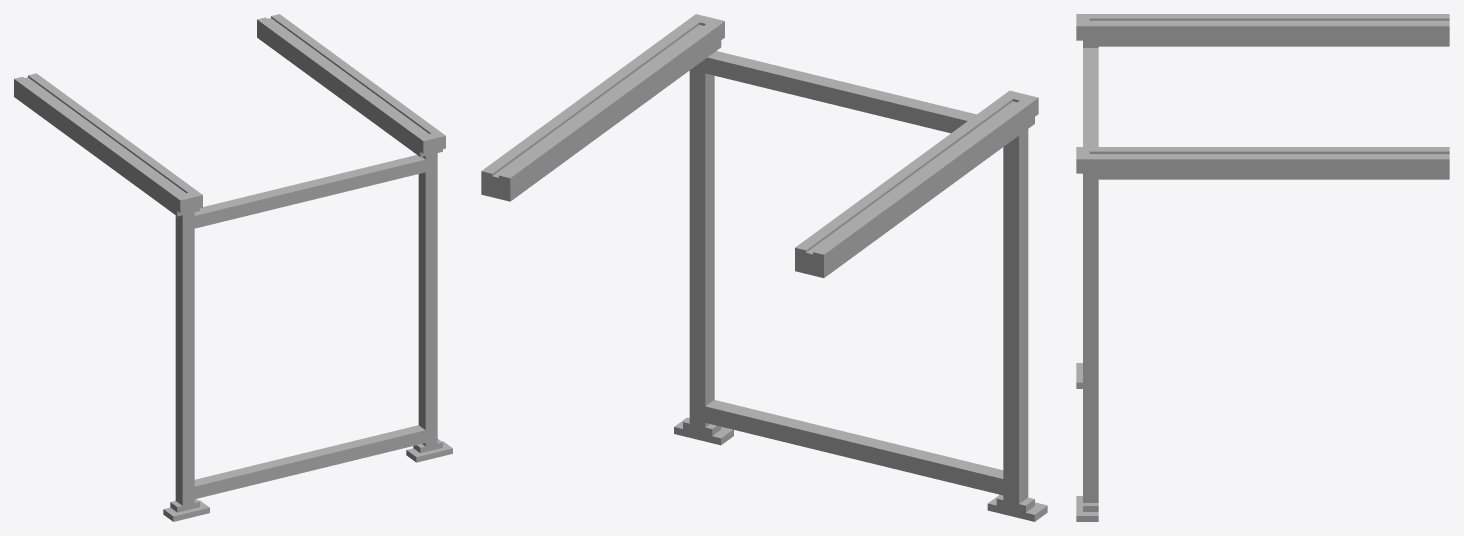
The model's file is tap 1.1.obj.
3 renders of one model, left to right at view 1: azimuth 30°, elevation 25°; view 2: azimuth 150°, elevation 25°; view 3: azimuth 270°, elevation 25°, orthographic. The views are drawn at different scales.
Bounding box in the file's own units: 16.1 × 17.6 × 16.6.
Materials: 1 (1 with a texture image).
